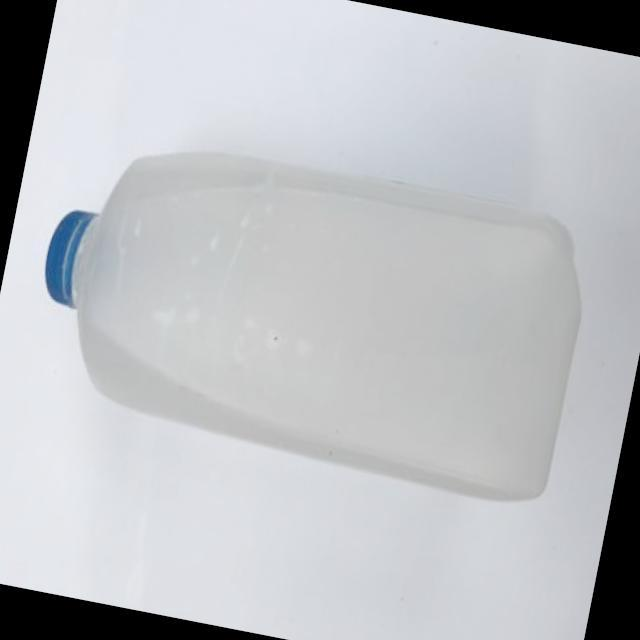HDPE Plastic: (40, 149, 587, 504)
